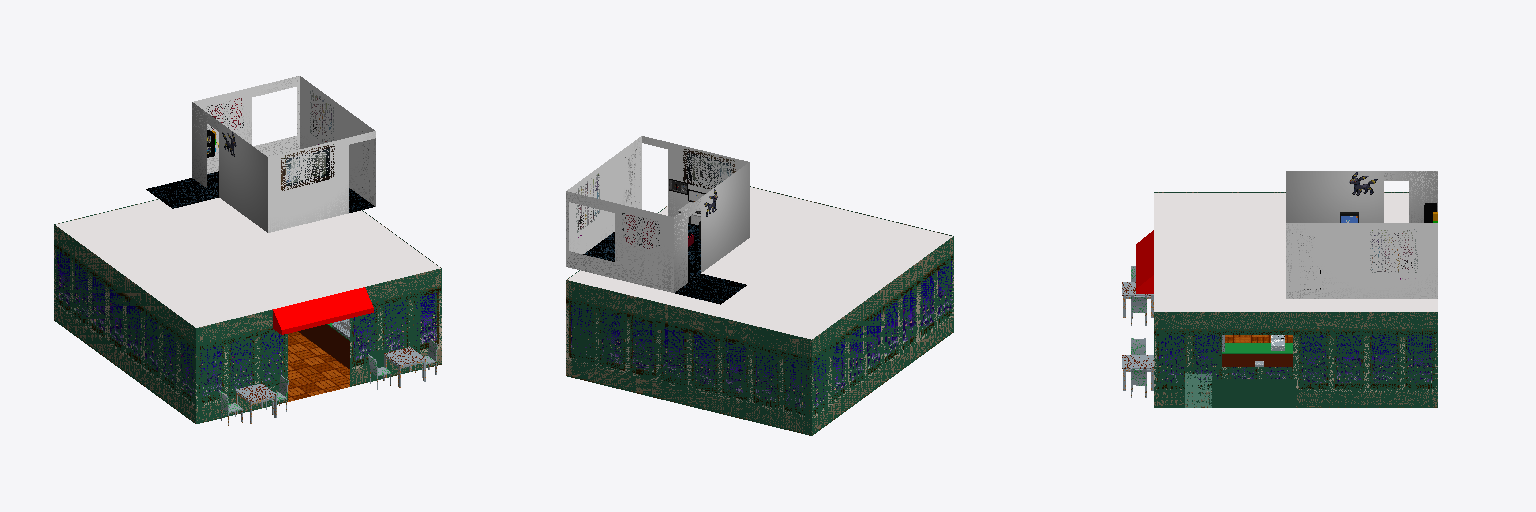
The picture shows the model from 3 angles: view 1: azimuth 30°, elevation 25°; view 2: azimuth 150°, elevation 25°; view 3: azimuth 270°, elevation 25°; orthographic projection.
Parts seen in each view (by area): view 1: SketchUp.015_ID1983; view 2: SketchUp.015_ID1983; view 3: SketchUp.015_ID1983.
Boxes of the visible parts, x1=… form: SketchUp.015_ID1983: x1=54, y1=76, x2=441, y2=425; SketchUp.015_ID1983: x1=566, y1=136, x2=953, y2=435; SketchUp.015_ID1983: x1=1122, y1=171, x2=1437, y2=407.
Bounding box in the file's own units: 8 × 5.77 × 8.9.
60 materials, 18 textured.